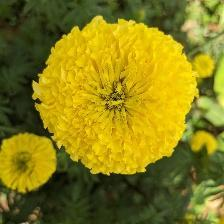marigold: (32, 16, 201, 180), (1, 132, 59, 194), (192, 55, 219, 81)
